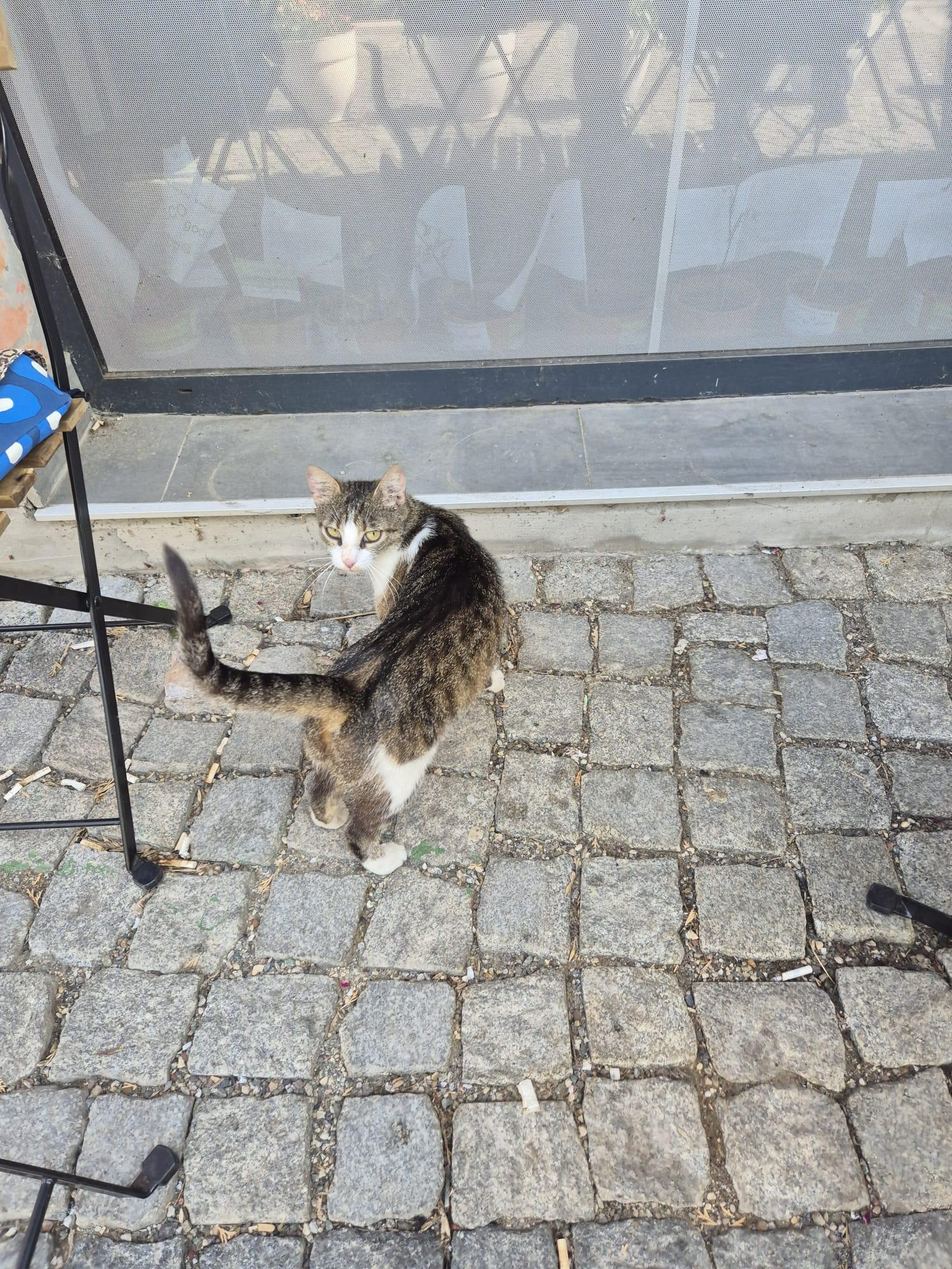macka: (162, 461, 517, 877)
